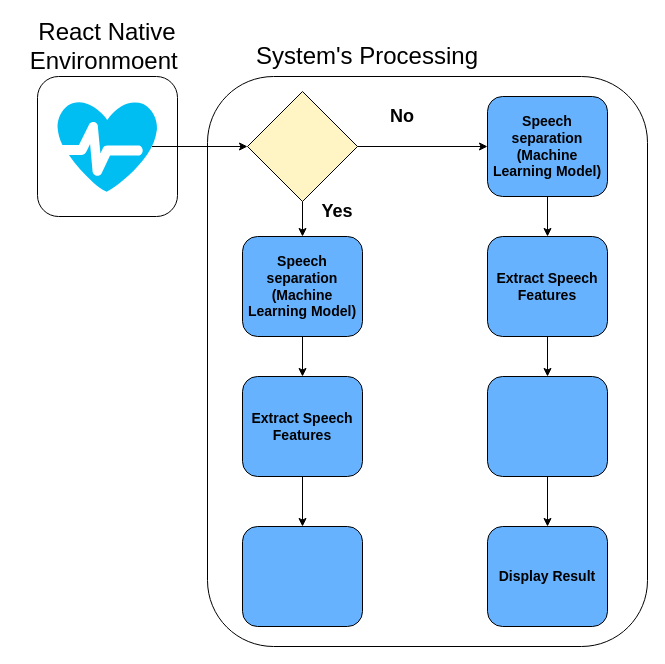
Image size: 665x664. Some labels were removed from this diagram. Each missing label, with the centre of its shape:
"First time user?" goes at pixel 302 146.
"Search Database" goes at pixel 547 426.
"Store Speech Features in Database" goes at pixel 302 576.
